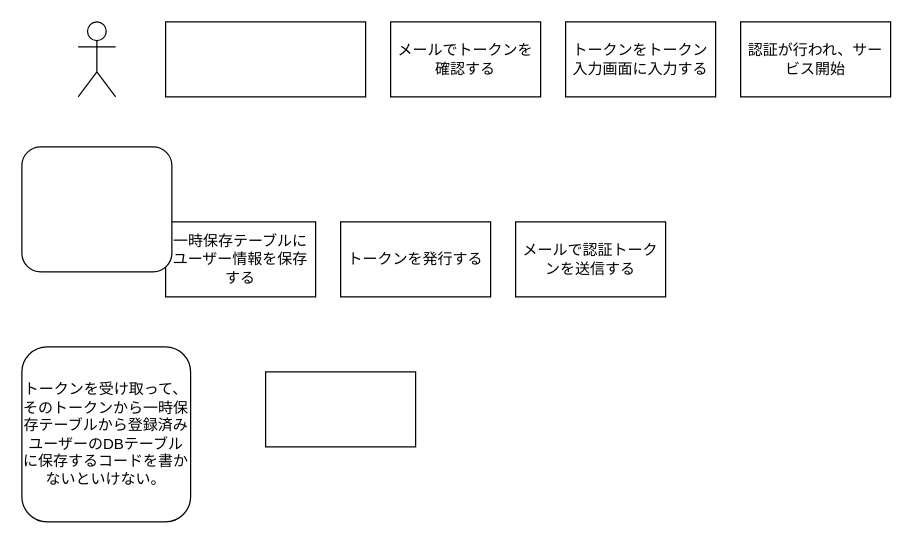
The diagram is 913 pixels wide and 544 high, and some of its shapes have lost their labels. Each missing label, with the box of its shape:
Actor: (77, 21, 116, 97)
ユーザー情報を登録する: (164, 21, 366, 97)
一時保存テーブルにはユーザー情報にトークンを含めたテーブルを作成する。: (21, 146, 172, 272)
